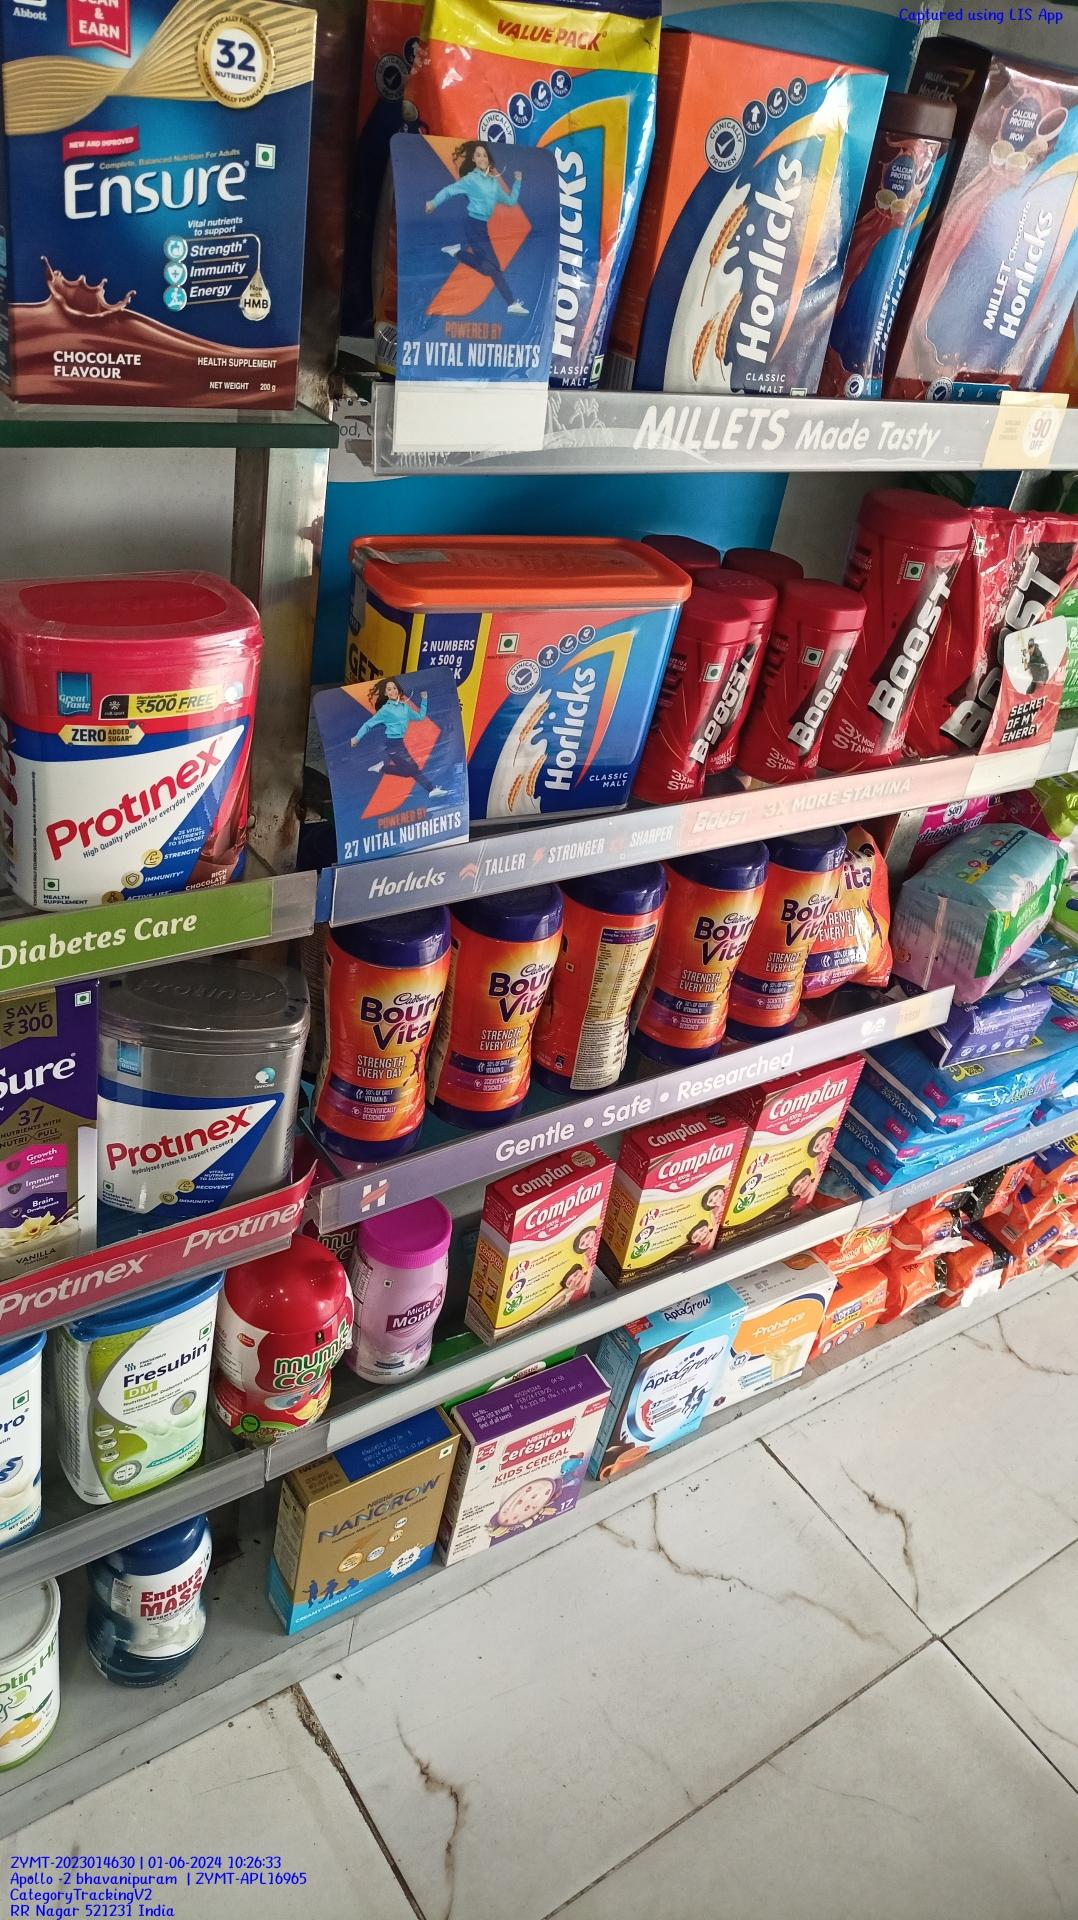HORLICK_MALT_1_KG_CONTAINER: (371, 539, 665, 818)
PROTINEX_CHOCOLATE_400_G_JAR: (7, 575, 259, 909)
PROTINEX_ORIGINAL_400_G_JAR: (100, 967, 307, 1221)
